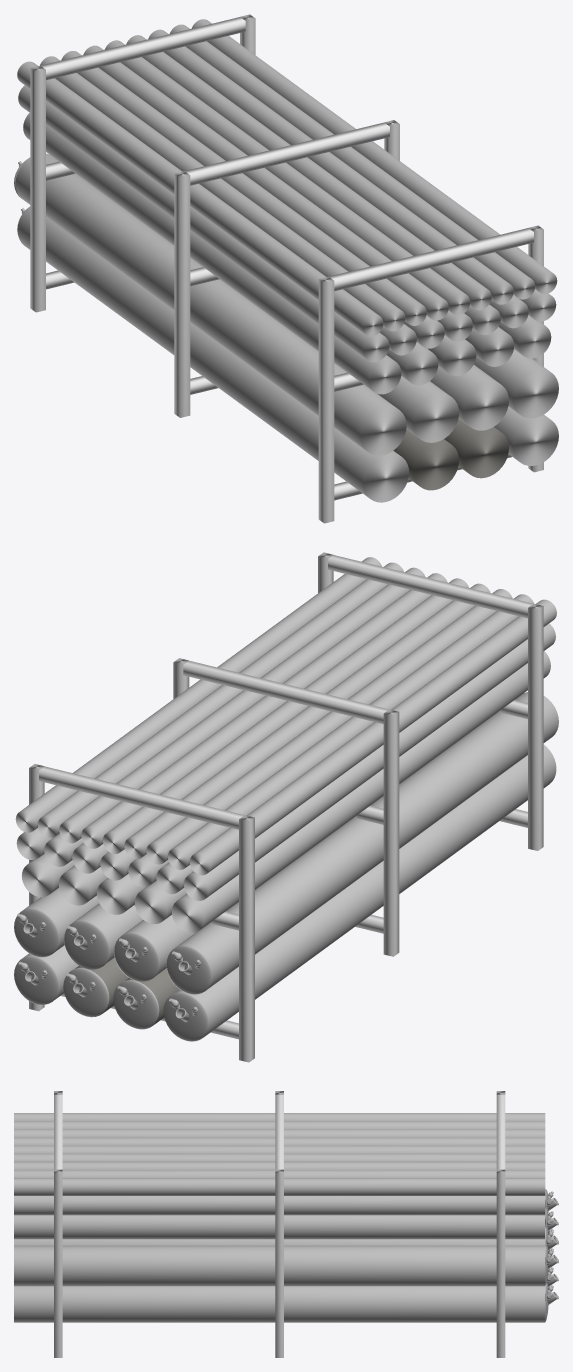
The model's file is Mixing_Room_1.glb.
The picture shows the model from 3 angles, top to bottom: view 1: azimuth 30°, elevation 25°; view 2: azimuth 150°, elevation 25°; view 3: azimuth 270°, elevation 25°; orthographic projection. The views are drawn at different scales.
Parts seen in each view (by area): view 1: Cylinder.011, Cylinder.008, Cylinder.016, Cylinder.004, Cylinder.020, Cylinder.002, Cylinder.005, Cylinder.030, Cylinder.018, Cylinder.027, Cylinder.028, Cylinder.029 (+24 smaller); view 2: Cylinder.011, Cylinder.008, Cylinder.016, Cylinder.004, Cylinder.020, Cylinder.002, Cylinder.030, Cylinder.005, Cylinder.018, Cylinder.027, Cylinder.028, Cylinder.029 (+32 smaller); view 3: Cylinder.009, Cylinder.006, Cylinder.013, Cylinder.025, Cylinder.030, Cylinder.027, Cylinder.002, Cylinder.004, Cylinder.005, Cylinder.018, Cylinder.028, Cylinder.029 (+8 smaller).
Boxes of the visible parts, box(x1,y1,x2,y2) form: Cylinder.011: box(15, 153, 406, 455); Cylinder.008: box(17, 206, 409, 502); Cylinder.016: box(23, 113, 401, 394); Cylinder.004: box(17, 61, 383, 336); Cylinder.020: box(18, 85, 389, 362); Cylinder.002: box(148, 29, 513, 304); Cylinder.005: box(40, 56, 405, 331); Cylinder.030: box(191, 19, 557, 294); Cylinder.018: box(83, 45, 448, 320); Cylinder.027: box(61, 51, 426, 325); Cylinder.028: box(104, 40, 470, 315); Cylinder.029: box(126, 35, 491, 310); Cylinder.011: box(166, 692, 558, 994); Cylinder.008: box(175, 745, 556, 1041); Cylinder.016: box(172, 651, 550, 933); Cylinder.004: box(190, 599, 556, 875); Cylinder.020: box(184, 623, 555, 900); Cylinder.002: box(59, 567, 425, 843); Cylinder.030: box(15, 557, 381, 832); Cylinder.005: box(168, 594, 533, 869); Cylinder.018: box(124, 583, 490, 859); Cylinder.027: box(146, 589, 512, 864); Cylinder.028: box(103, 578, 468, 853); Cylinder.029: box(81, 573, 447, 848); Cylinder.009: box(14, 1245, 545, 1286); Cylinder.006: box(14, 1286, 545, 1322); Cylinder.013: box(14, 1215, 544, 1239); Cylinder.025: box(14, 1196, 545, 1215); Cylinder.030: box(14, 1178, 545, 1195); Cylinder.027: box(14, 1129, 545, 1137); Cylinder.002: box(14, 1161, 545, 1169); Cylinder.004: box(14, 1113, 545, 1121); Cylinder.005: box(14, 1121, 545, 1129); Cylinder.018: box(14, 1137, 545, 1145); Cylinder.028: box(14, 1145, 545, 1153); Cylinder.029: box(14, 1153, 545, 1161).
Size of the model in its own units: 4.4 by 4.6 by 12.31.
Materials: 2 (2 with a texture image).
